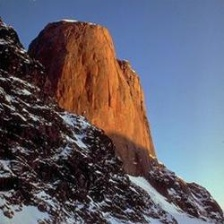neutral: (3, 3, 224, 218)
